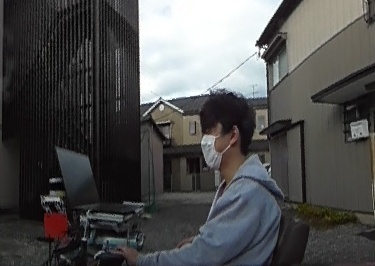person: (162, 86, 286, 266)
